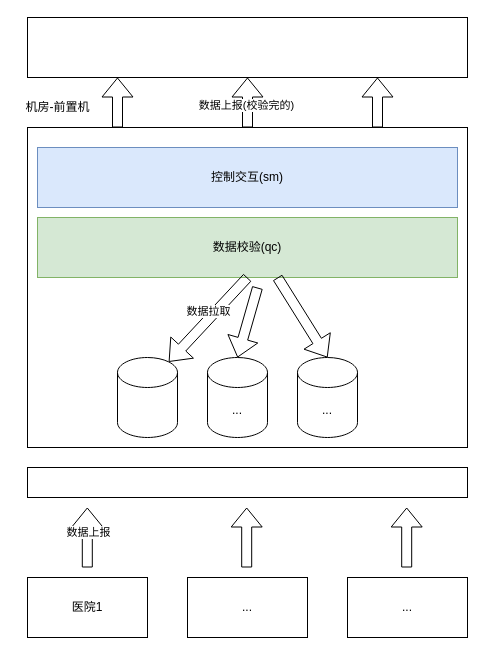
Image size: 485x655. Some labels were removed from this diagram. The shapes that lost their labels are listed below. From the top down, each one's centre as x and y in pixels, then its label:
(247,47): 控制平台(sys)
(147,397): 数据库
(247,482): 数据标准
